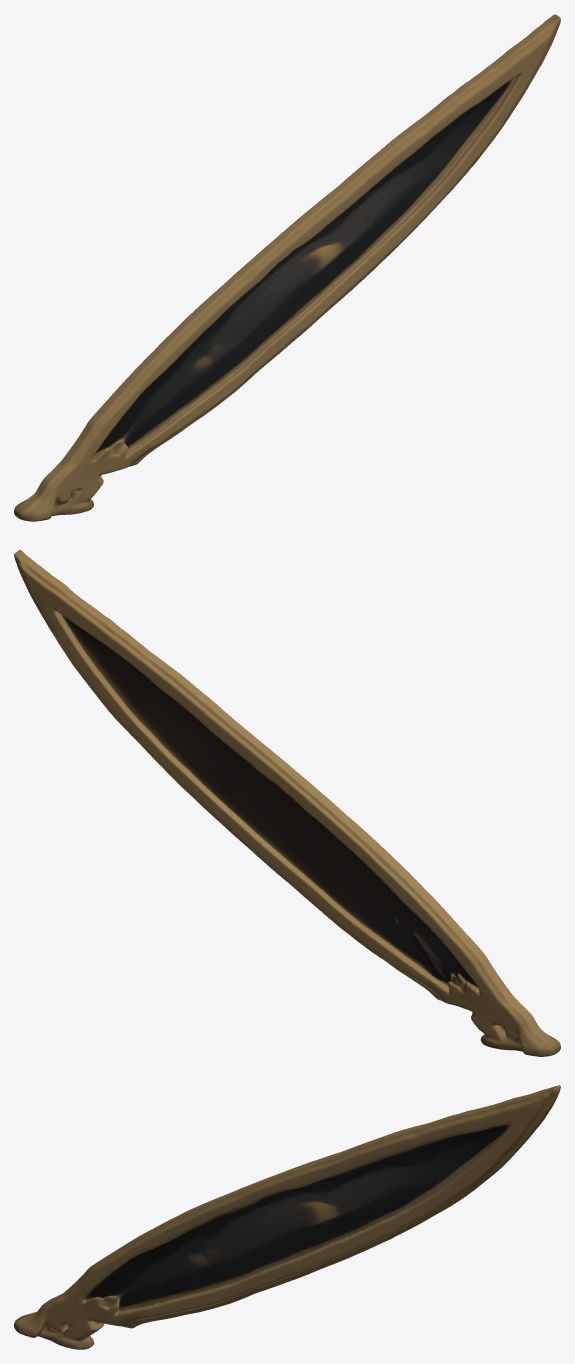
The model's file is ear_single_ref-10.glb.
The picture shows the model from 3 angles, top to bottom: view 1: azimuth 30°, elevation 25°; view 2: azimuth 150°, elevation 25°; view 3: azimuth 330°, elevation 25°; orthographic projection.
Size of the model in its own units: 1 by 0.6631 by 0.055.
1 material, 1 textured.
